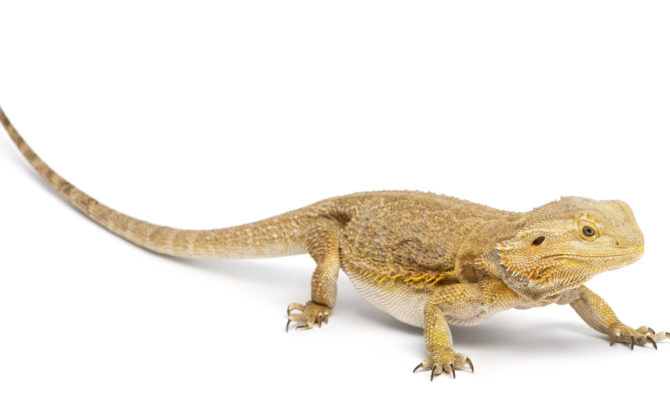bearded: (1, 102, 668, 383)
